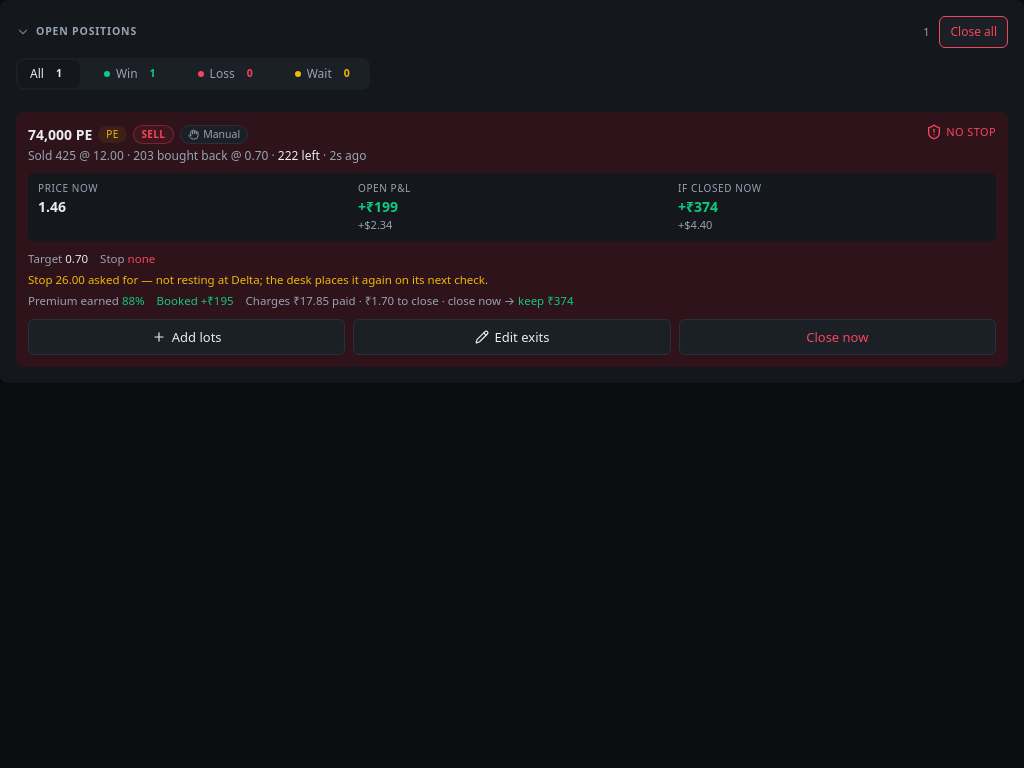
Test: closing out › [critical] opens on the whole position, so closing everything is still one swipe
Click the button "Close now" at (837, 337), box [679, 319, 996, 355]
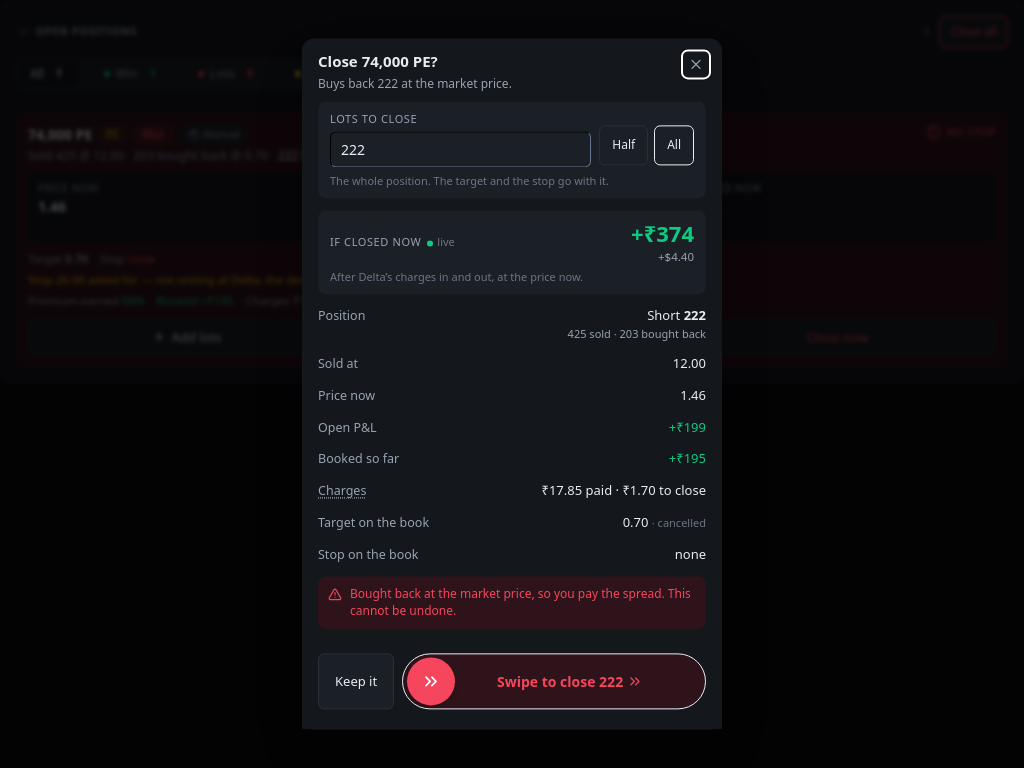
Check: the field labelled "Lots to close" holds "222", box [330, 131, 591, 167]
Check: the text "Buys back 222 at the market price." is shown, box [318, 75, 512, 93]
Check: the slider named "Swipe to close 222" is shown, box [407, 658, 455, 706]
